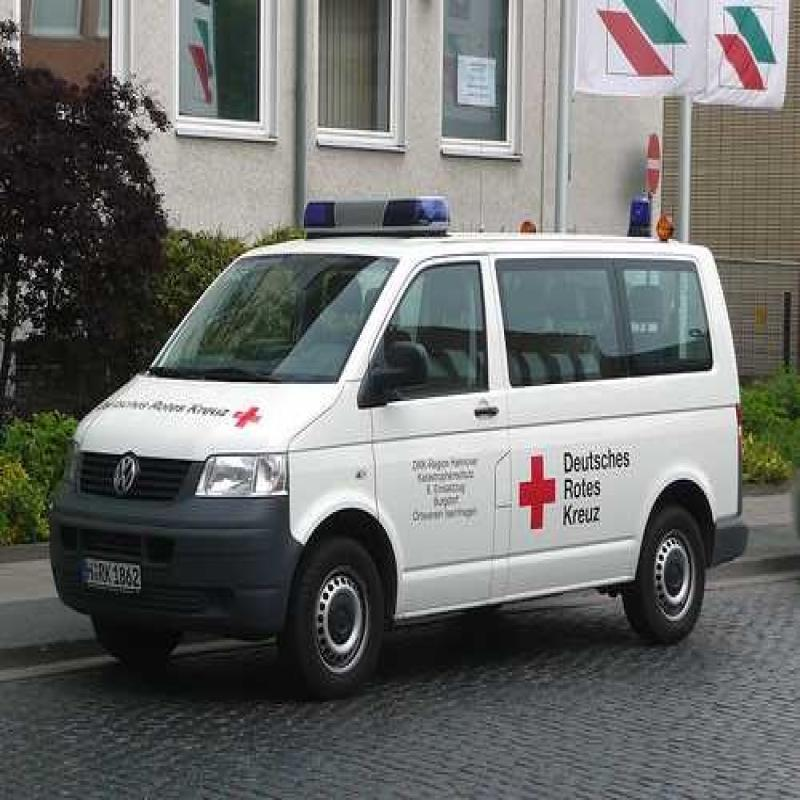AmbulanceSiren: (291, 177, 460, 249)
